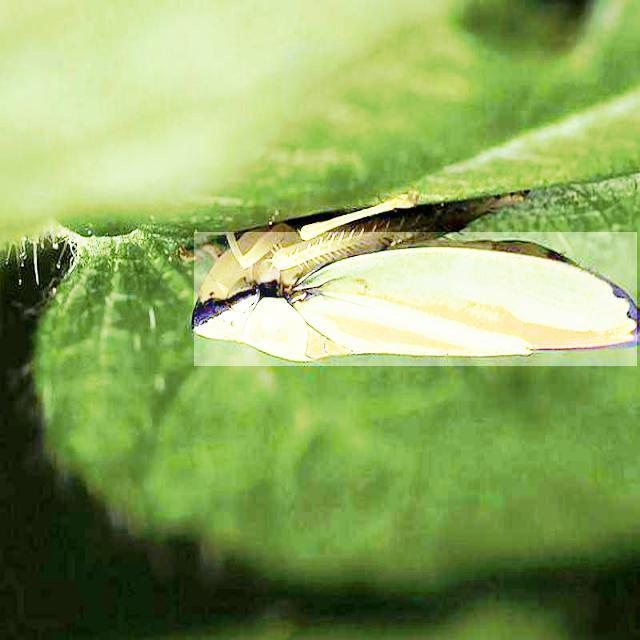green-leafhopper: (194, 233, 637, 367)
